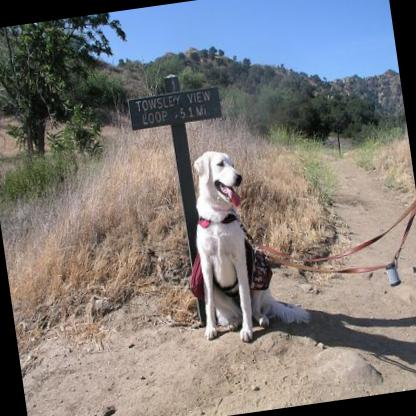kuvasz: (176, 137, 312, 350)
